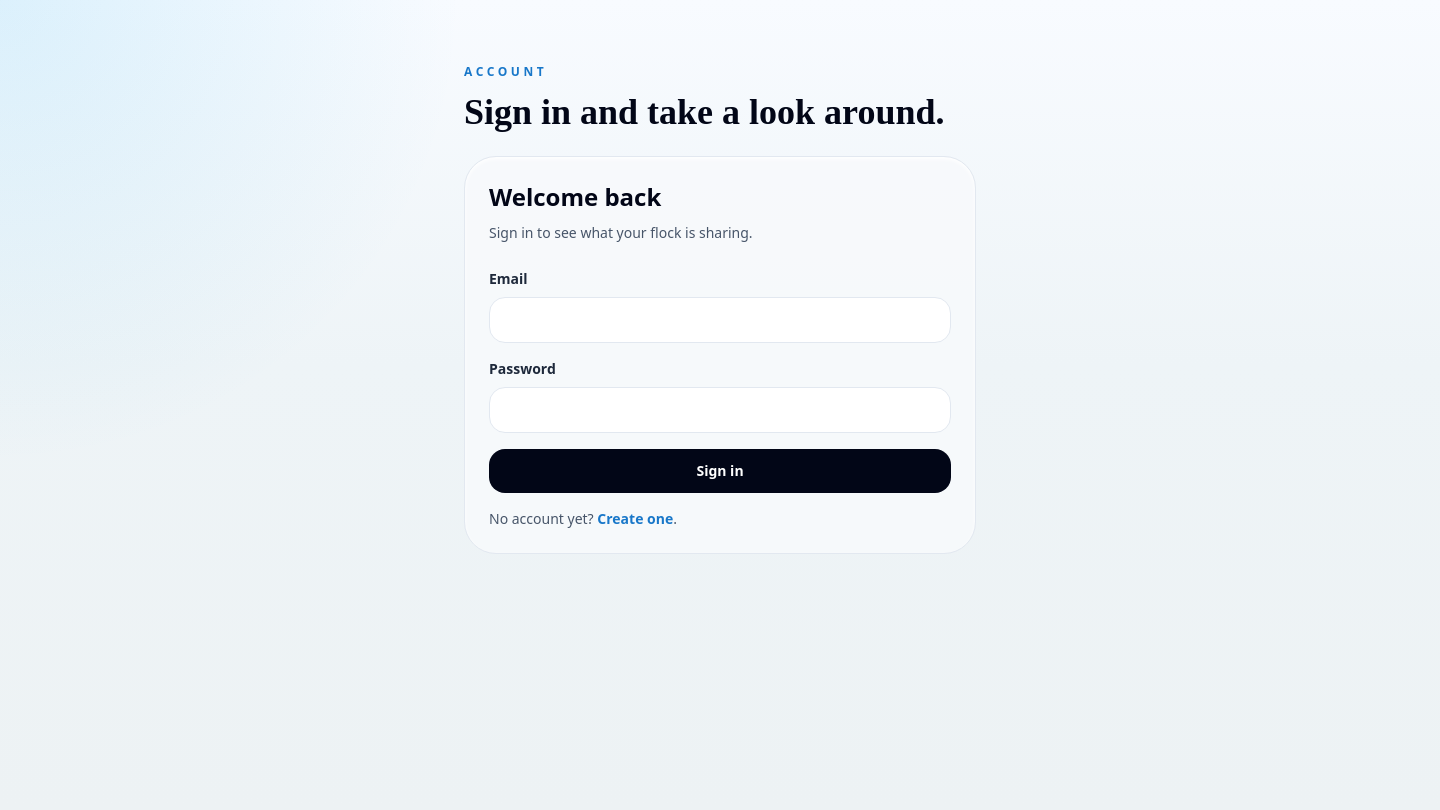
Test: App authentication flow › shows a login error from the backend
Step 1. Type "demo@example.com" into the field labelled "Email" → (720, 320), box [489, 297, 951, 343]
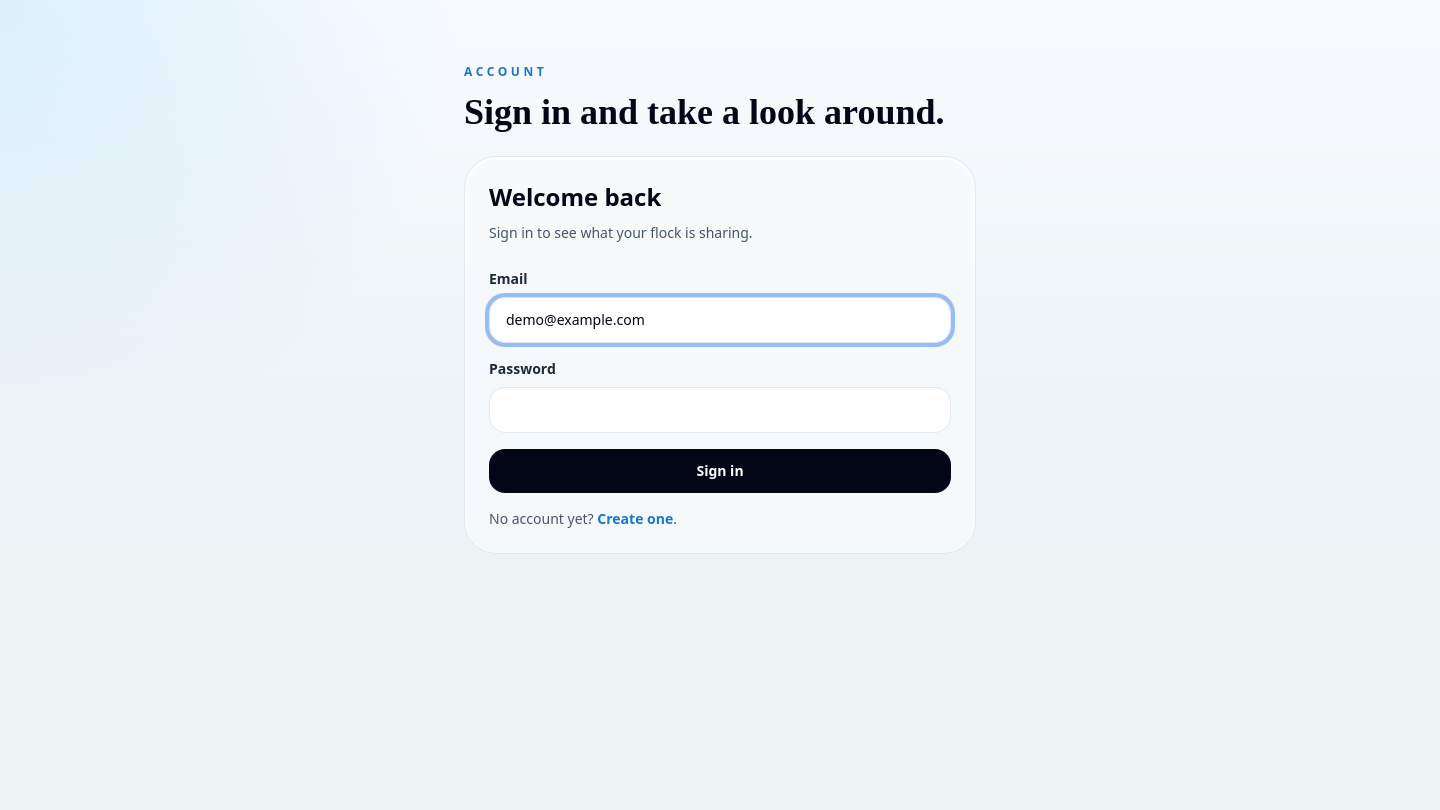
Step 2. Type "wrong-password" into the password field labelled "Password" → (720, 410), box [489, 387, 951, 433]
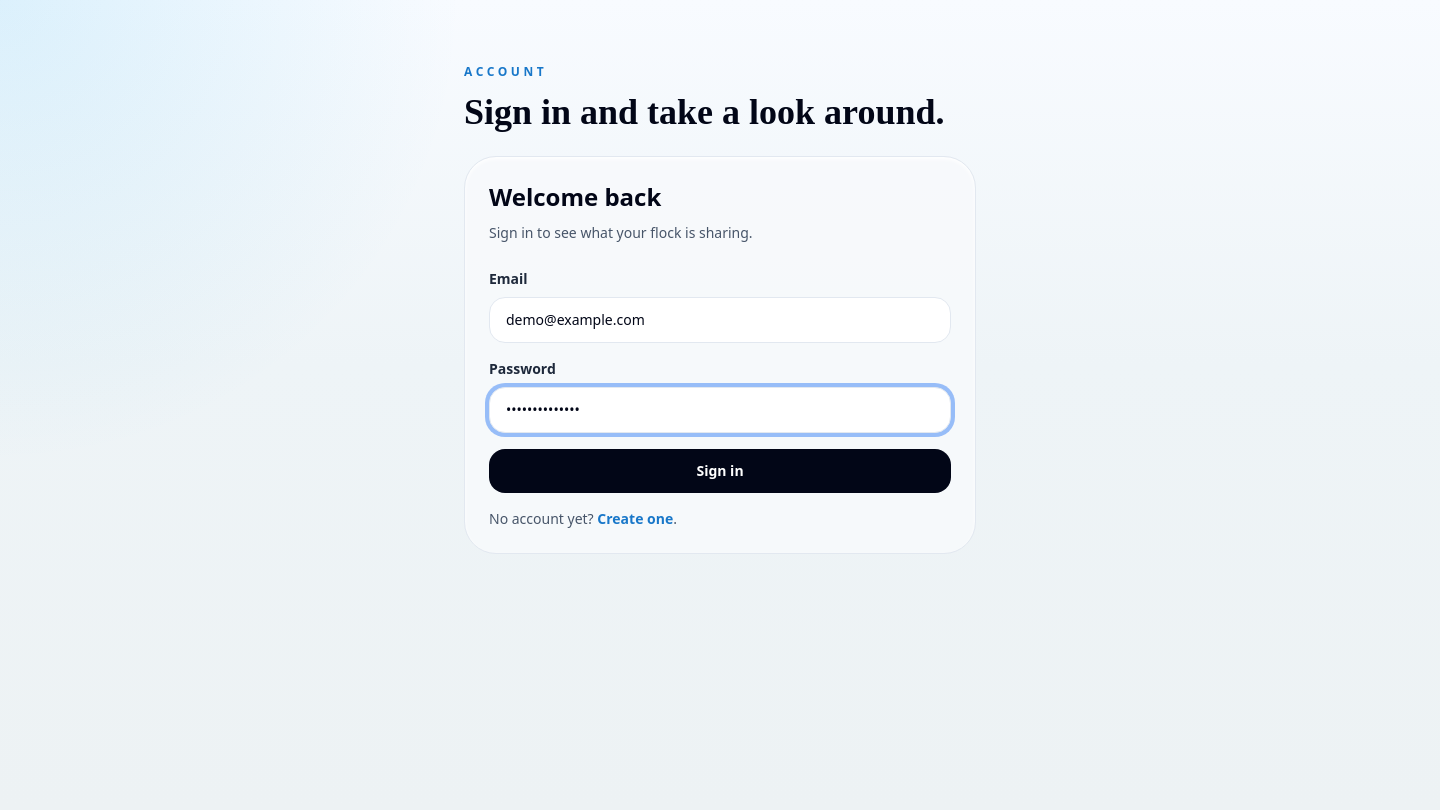
Step 3. Click the button "Sign in" → (720, 471), box [489, 449, 951, 493]
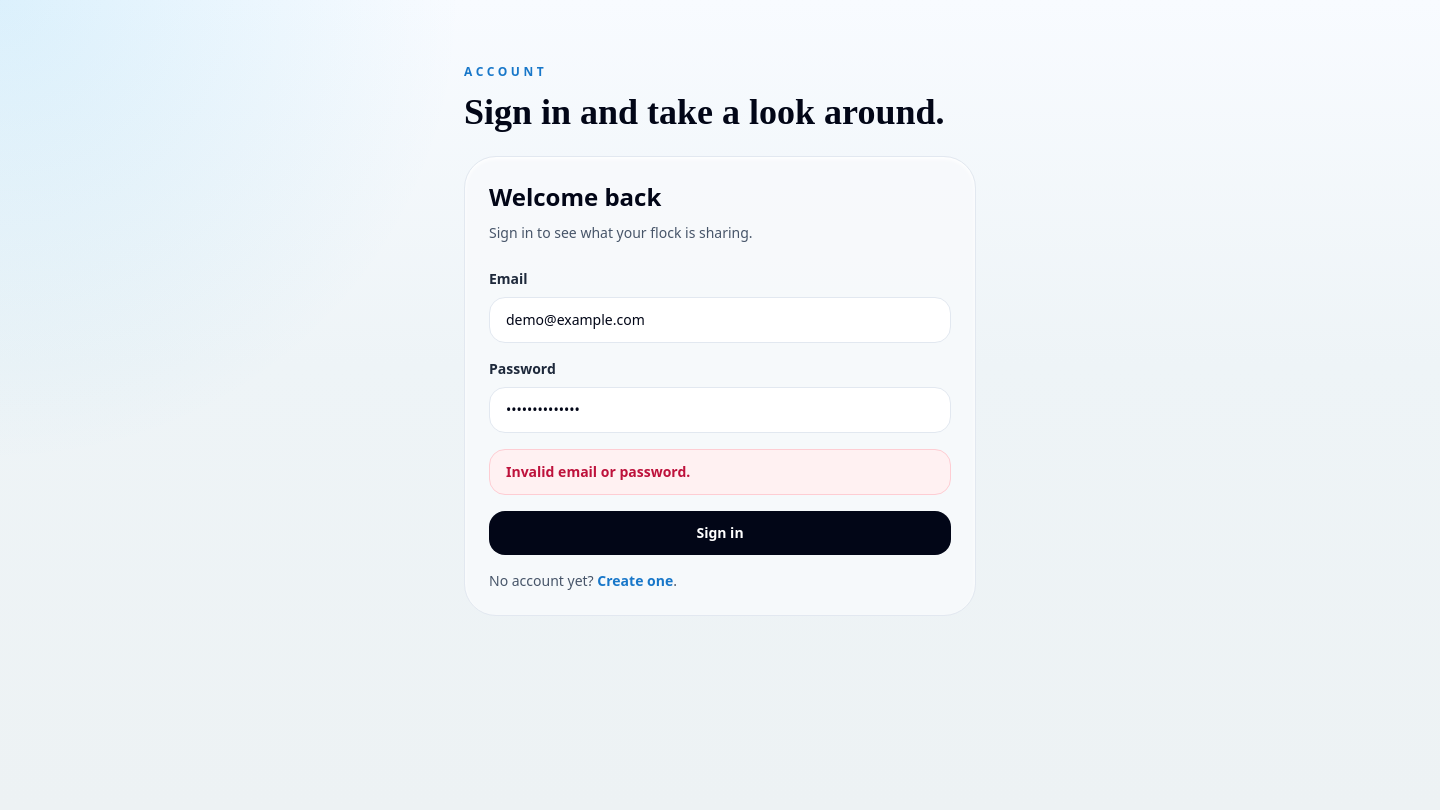
expect the text "Invalid email or password." is shown: met, box [506, 462, 690, 481]
